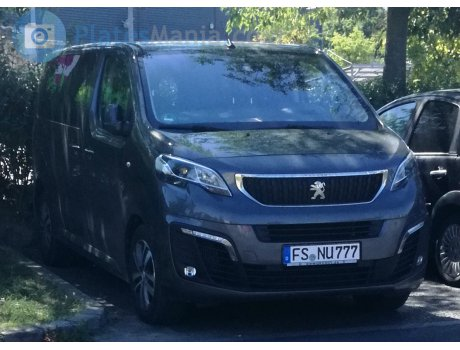License Plates: (291, 247, 359, 260)
